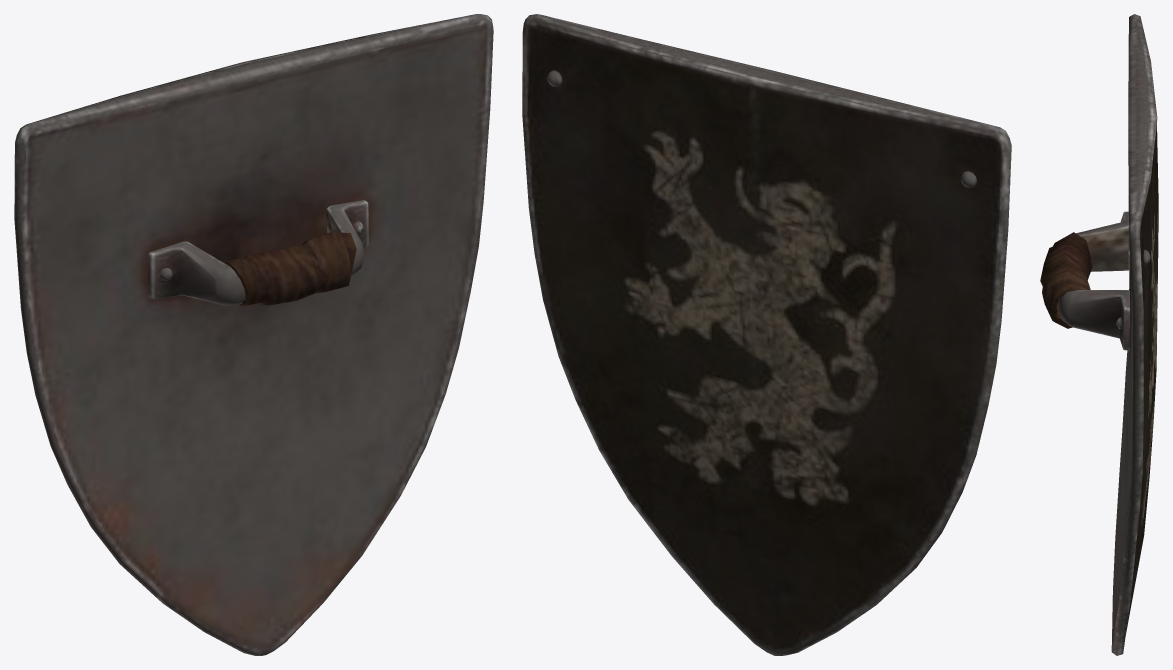
File: weapon-wp_a_2039.glb
3 renders of one model, left to right at view 1: azimuth 30°, elevation 25°; view 2: azimuth 150°, elevation 25°; view 3: azimuth 270°, elevation 25°, orthographic. The views are drawn at different scales.
Parts seen in each view (by area): view 1: wp_a_2039_mesh; view 2: wp_a_2039_mesh; view 3: wp_a_2039_mesh.
Boxes of the visible parts, x1,y1,x2,y2 form: wp_a_2039_mesh: (14,14,493,655); wp_a_2039_mesh: (522,14,1011,655); wp_a_2039_mesh: (1040,14,1158,655).
Bounding box in the file's own units: 0.5657 × 0.6562 × 0.1312.
1 material, 1 textured.
